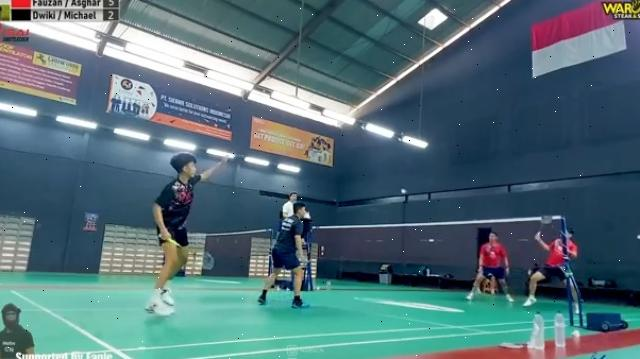Shuttlecock: (398, 184, 408, 196)
